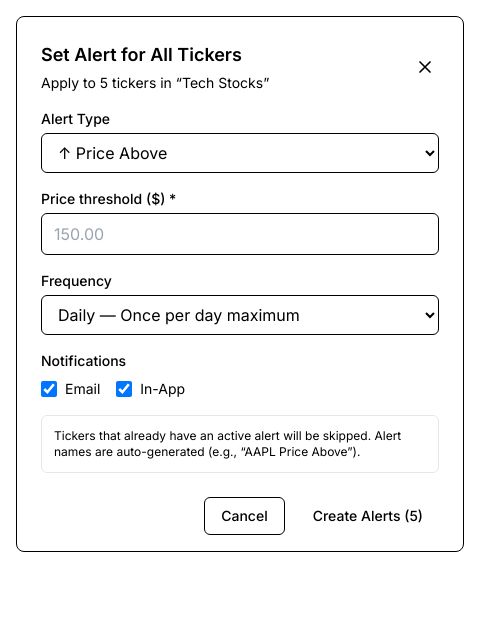
Test case: BulkAlertModal — Validation › shows error for zero threshold
In the number field labelled "Price threshold ($) *": (240, 234) [41,213,439,255], type "0"
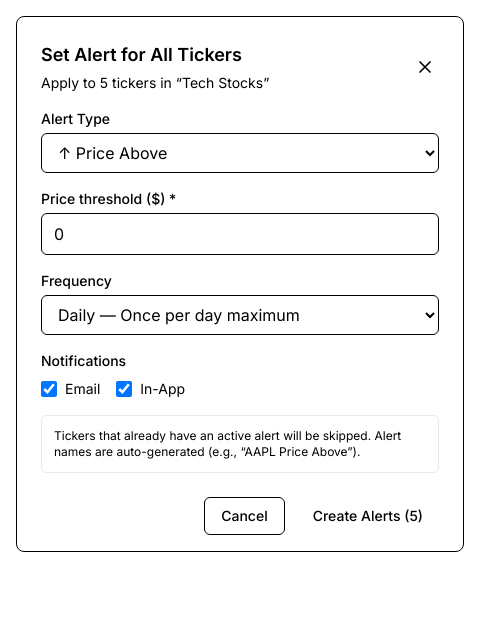
Submit the form from the button "Create Alerts (5)", box [297,498,439,534]
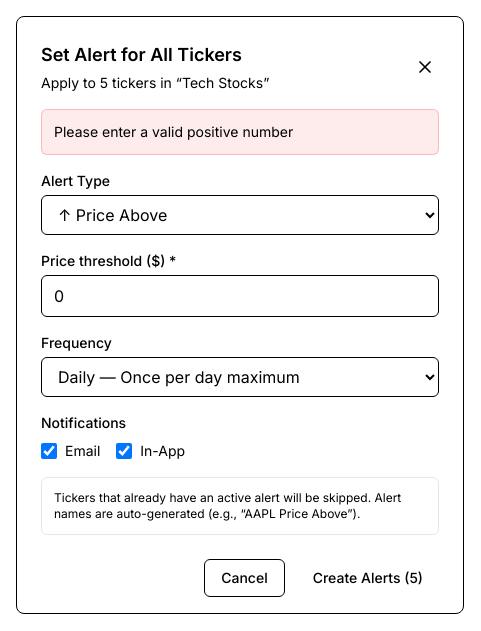
Check: the text "Please enter a valid positive number" is shown, box [54,123,293,140]
